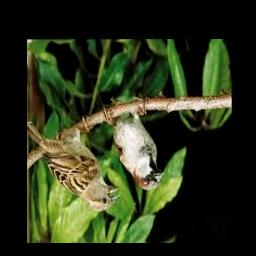Sparrow: (27, 116, 121, 211), (104, 98, 165, 191)
